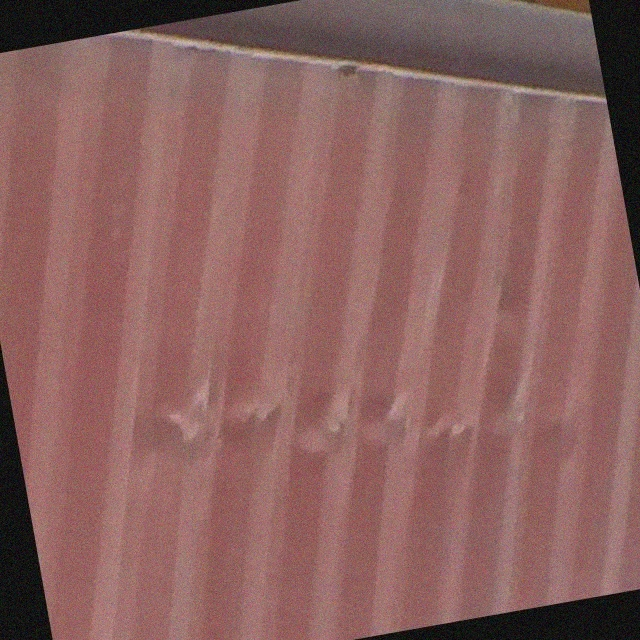Dent: (107, 341, 544, 516)
